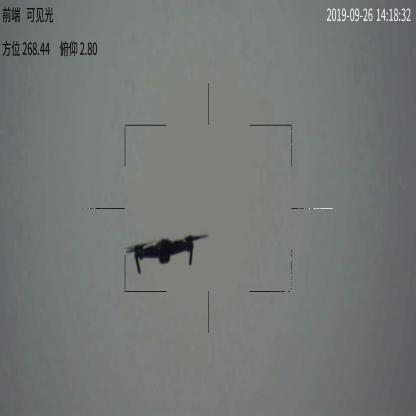uav: (118, 230, 204, 276)
